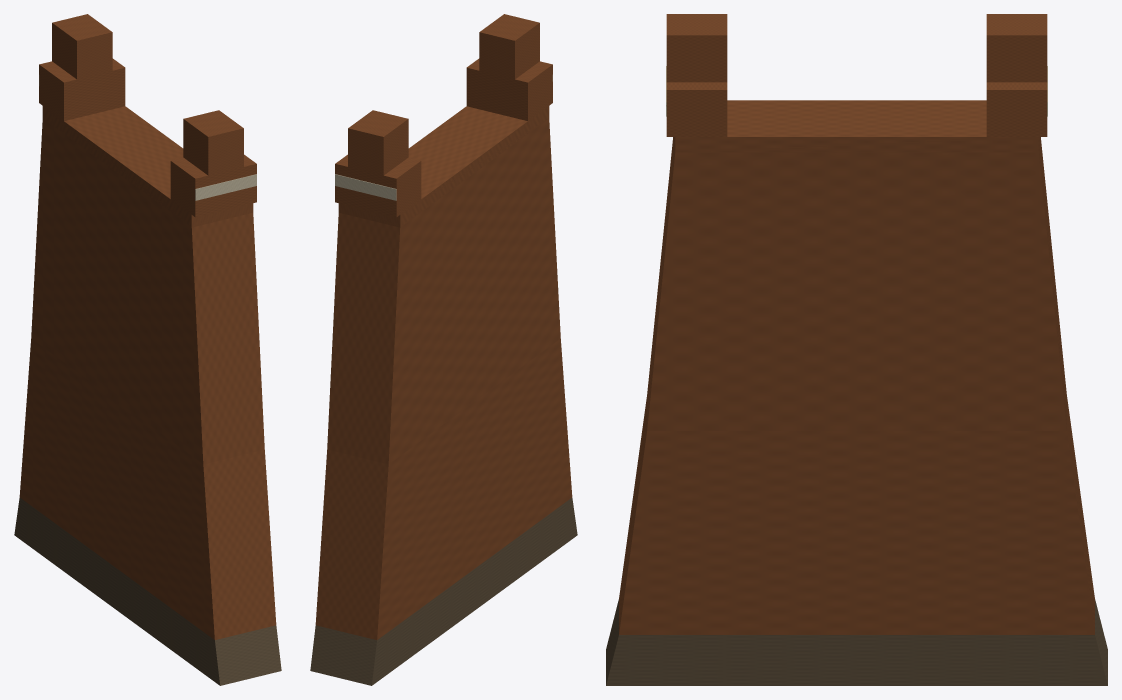
Rendered from Berber_Wall_Age2_gap_1m.fbx.
3 views of the same model, side by side, from view 1: azimuth 30°, elevation 25°; view 2: azimuth 150°, elevation 25°; view 3: azimuth 270°, elevation 25° (orthographic). The views are drawn at different scales.
Visible parts, largest first — view 1: gap_1m_rammed_curtain_upper, gap_1m_rammed_curtain_lower, gap_1m_battered_stone_foot, gap_1m_walk_deck, gap_1m_parapet.001, gap_1m_merlon, gap_1m_merlon.001, gap_1m_parapet, gap_1m_owner_painted_band; view 2: gap_1m_rammed_curtain_upper, gap_1m_rammed_curtain_lower, gap_1m_battered_stone_foot, gap_1m_walk_deck, gap_1m_parapet, gap_1m_merlon, gap_1m_merlon.001, gap_1m_parapet.001, gap_1m_owner_painted_band.001; view 3: gap_1m_rammed_curtain_upper, gap_1m_rammed_curtain_lower, gap_1m_battered_stone_foot, gap_1m_walk_deck, gap_1m_merlon, gap_1m_merlon.001, gap_1m_parapet, gap_1m_parapet.001.
Part boxes in pixels (x1=…): gap_1m_rammed_curtain_upper: x1=31, y1=119, x2=264, y2=464; gap_1m_rammed_curtain_lower: x1=19, y1=338, x2=276, y2=639; gap_1m_battered_stone_foot: x1=14, y1=498, x2=281, y2=685; gap_1m_walk_deck: x1=42, y1=106, x2=253, y2=227; gap_1m_parapet.001: x1=39, y1=58, x2=125, y2=120; gap_1m_merlon: x1=183, y1=110, x2=243, y2=175; gap_1m_merlon.001: x1=52, y1=14, x2=112, y2=79; gap_1m_parapet: x1=170, y1=154, x2=256, y2=217; gap_1m_owner_painted_band: x1=195, y1=174, x2=256, y2=200; gap_1m_rammed_curtain_upper: x1=327, y1=119, x2=560, y2=464; gap_1m_rammed_curtain_lower: x1=315, y1=338, x2=572, y2=639; gap_1m_battered_stone_foot: x1=310, y1=498, x2=577, y2=685; gap_1m_walk_deck: x1=338, y1=106, x2=549, y2=227; gap_1m_parapet: x1=466, y1=58, x2=552, y2=120; gap_1m_merlon: x1=479, y1=14, x2=539, y2=79; gap_1m_merlon.001: x1=348, y1=110, x2=408, y2=175; gap_1m_parapet.001: x1=335, y1=154, x2=421, y2=217; gap_1m_owner_painted_band.001: x1=335, y1=174, x2=396, y2=200; gap_1m_rammed_curtain_upper: x1=647, y1=137, x2=1066, y2=430; gap_1m_rammed_curtain_lower: x1=619, y1=397, x2=1094, y2=634; gap_1m_battered_stone_foot: x1=606, y1=599, x2=1107, y2=685; gap_1m_walk_deck: x1=675, y1=100, x2=1038, y2=152; gap_1m_merlon: x1=666, y1=14, x2=727, y2=82; gap_1m_merlon.001: x1=986, y1=14, x2=1047, y2=82; gap_1m_parapet: x1=666, y1=82, x2=727, y2=136; gap_1m_parapet.001: x1=986, y1=82, x2=1047, y2=136.
Size of the model in its own units: 100 by 820 by 580.
Materials: 3 (3 with a texture image).
